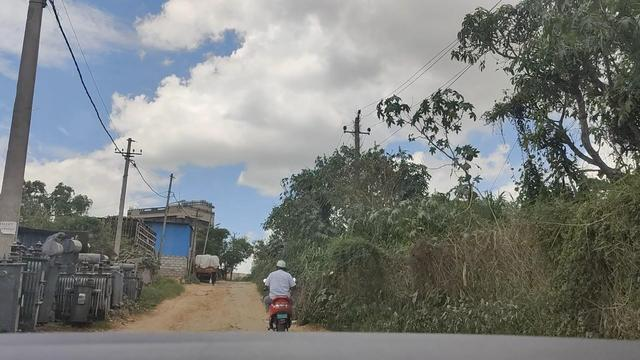HMV: (190, 249, 224, 289)
LMV: (262, 255, 304, 336)
UnsurfacedRoad: (159, 291, 253, 337)
